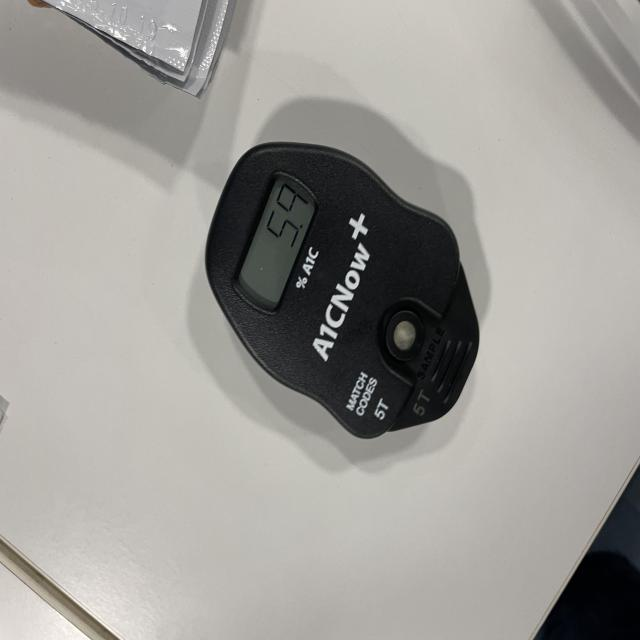hba1c: (202, 143, 481, 442)
